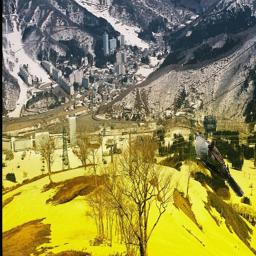Cuckoo: (194, 132, 244, 197)
